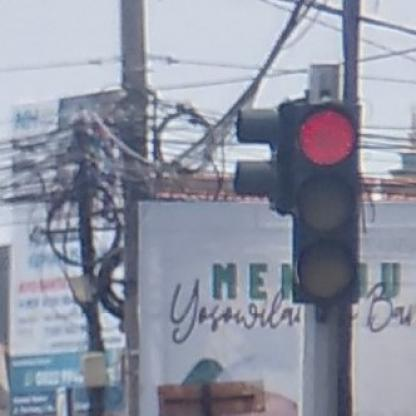red: (290, 104, 358, 303)
